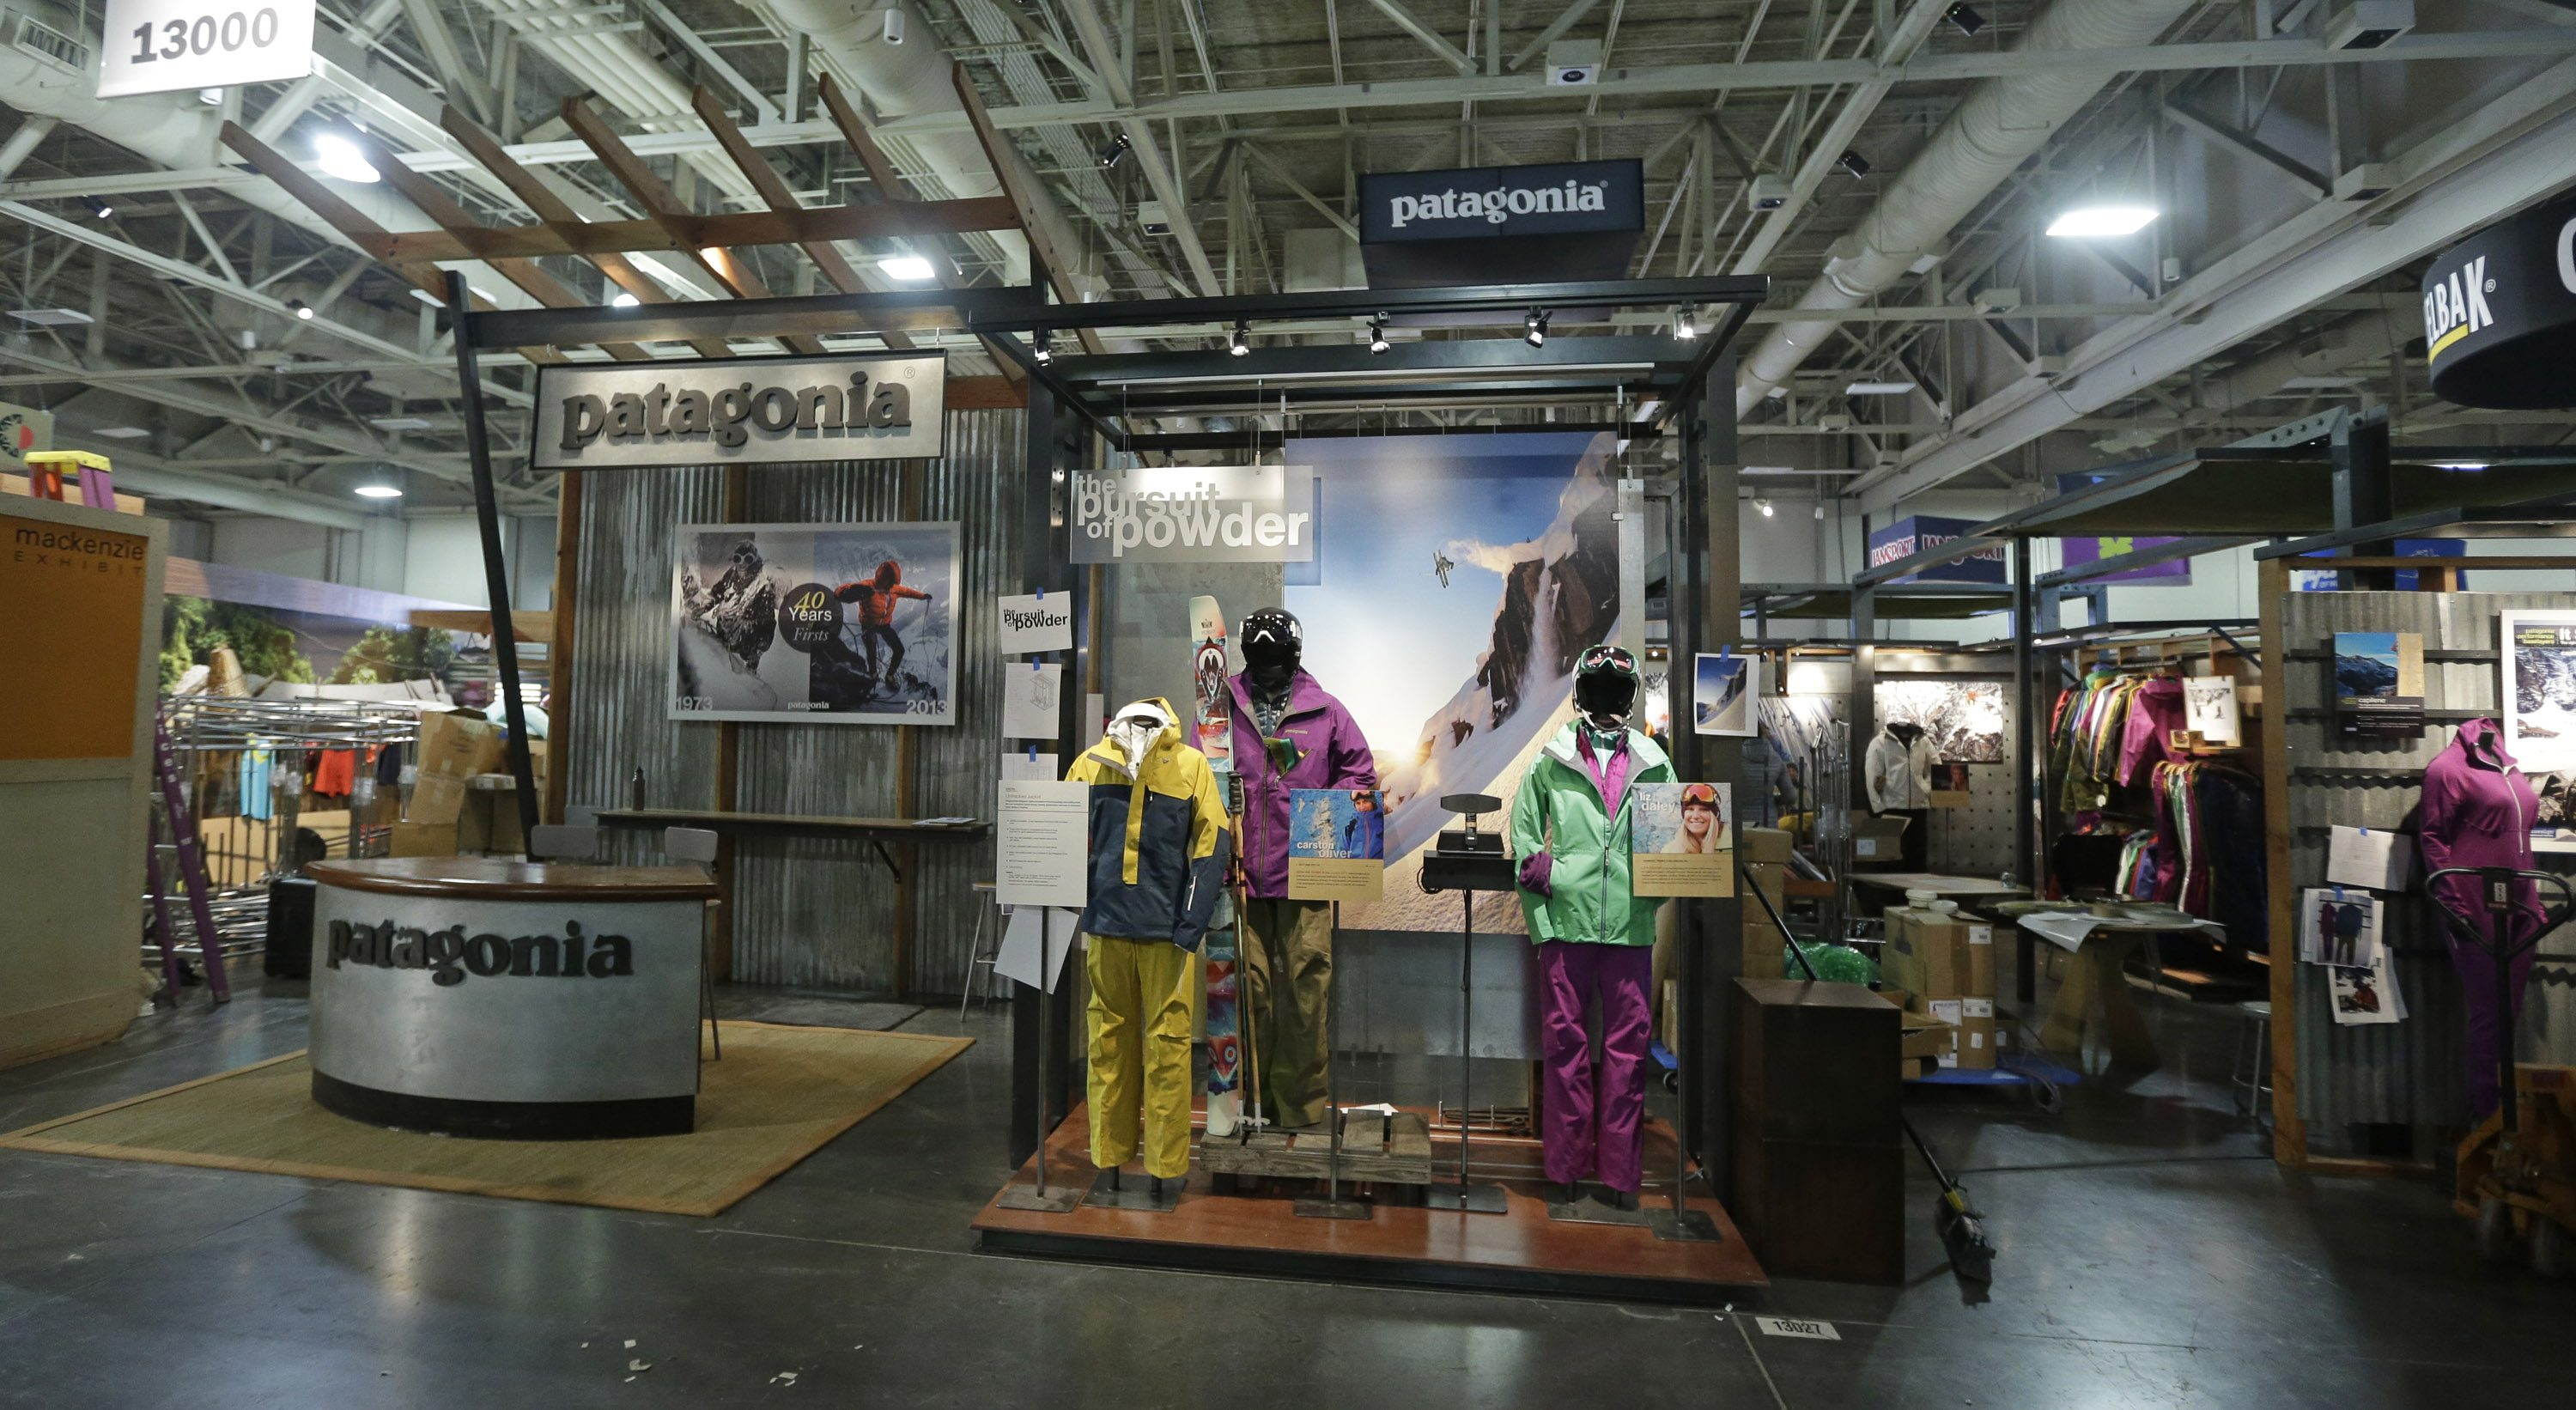Not_Face: (1567, 641, 1656, 734), (1239, 605, 1304, 689)
